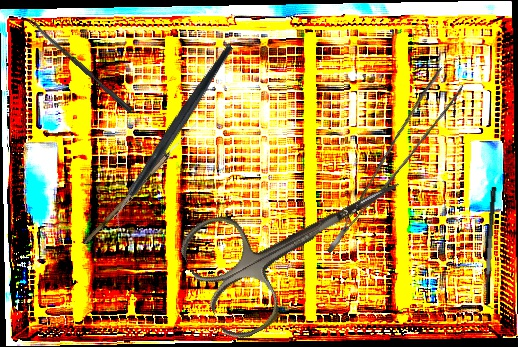Chopper: (66, 41, 282, 234)
Iris Scissors: (173, 131, 429, 347)
Spatula Surgical: (480, 187, 507, 309)
Surgical Spoon: (83, 119, 200, 247), (28, 17, 135, 115)
Tissue Forceps: (298, 66, 474, 254)
